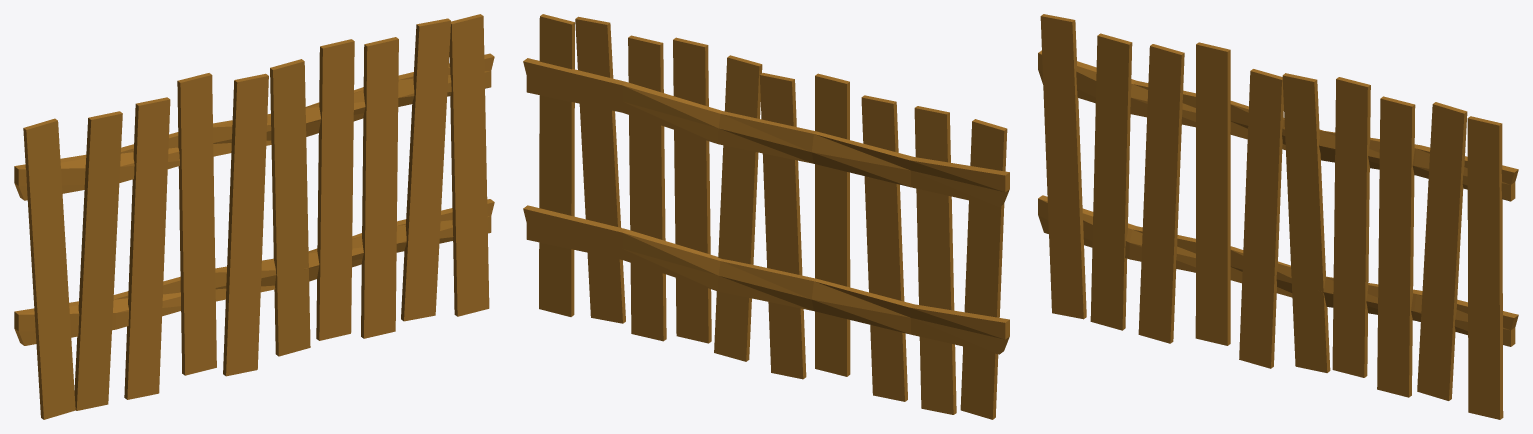
The model's file is fence_broken_low-poly.glb.
3 renders of one model, left to right at view 1: azimuth 30°, elevation 25°; view 2: azimuth 150°, elevation 25°; view 3: azimuth 330°, elevation 25°, orthographic.
Visible parts, largest first — view 1: Fence; view 2: Fence; view 3: Fence.
Boxes of the visible parts, x1,y1,x2,y2 form: Fence: [14, 14, 494, 419]; Fence: [523, 14, 1009, 419]; Fence: [1038, 14, 1518, 419].
Bounding box in the file's own units: 300 × 184 × 14.38.
